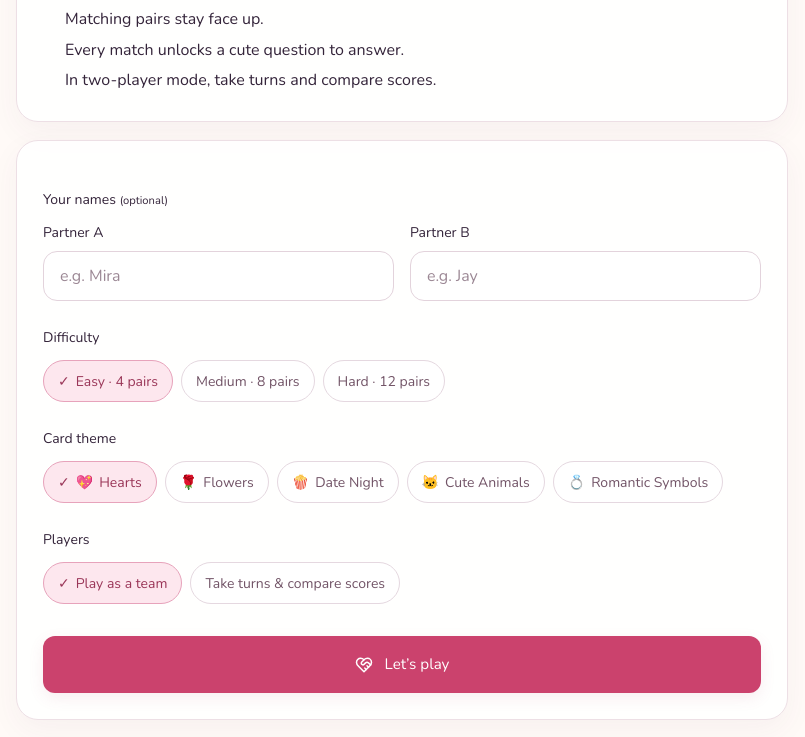
it: components › Memory Match is keyboard-operable and announces card states
(page scrolled)
Step 1. Click the button "Let’s play" → x=402, y=665, box [43,636,761,693]
(page scrolled)
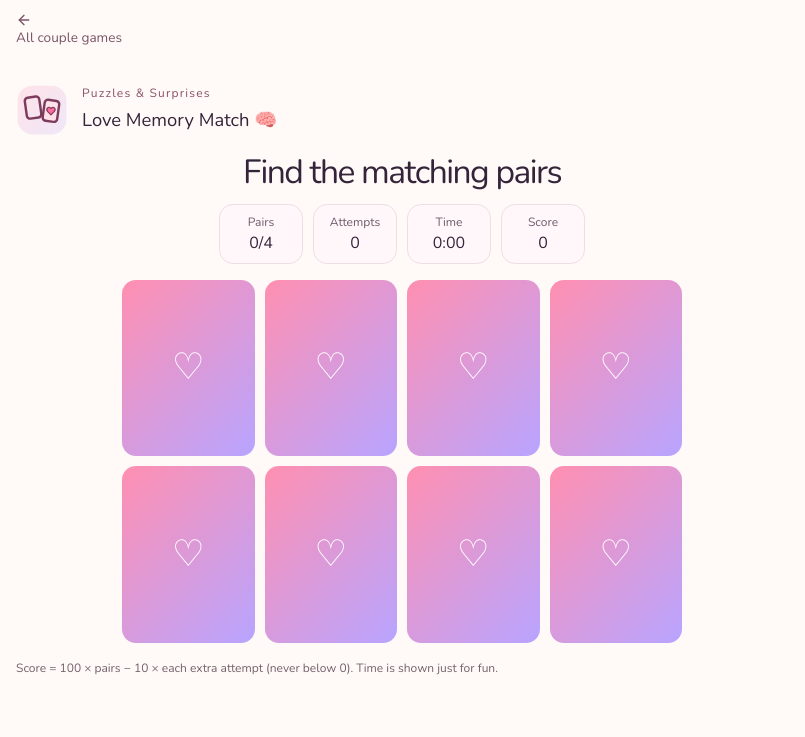
Expected: the number of buttons named "face down" is 8
Step 2. Click the button named "face down" → x=188, y=368, box [122,280,254,456]
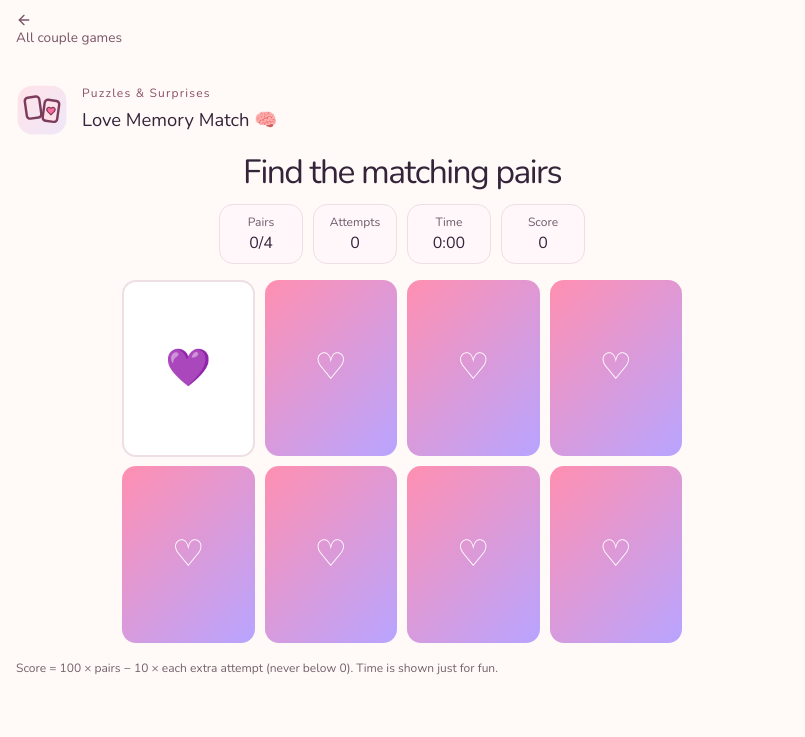
Expected: the 1st button "♡ 💜" is shown, [122,280,254,456]
